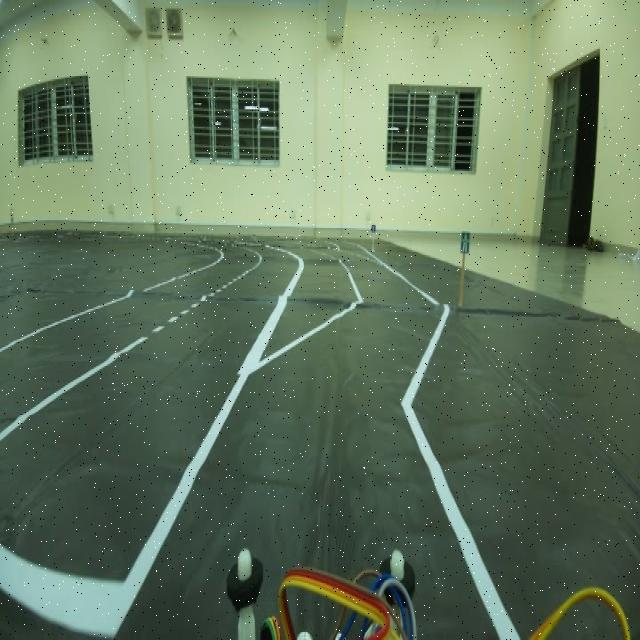highway_entry: (456, 222, 474, 258)
